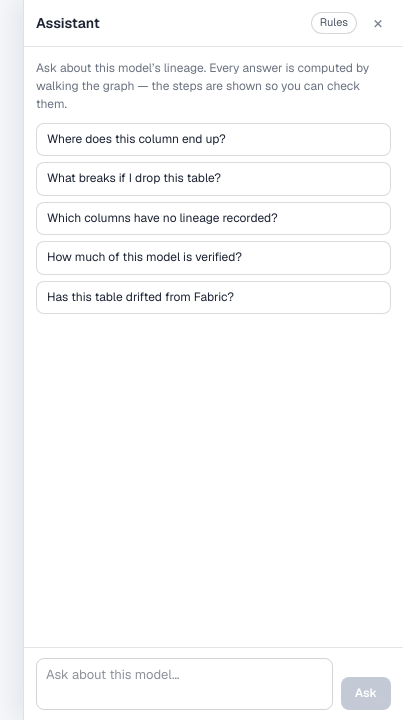
it: AssistantPanel › marks an answer that no traversal backed
The image size is (403, 720).
Type "anything" into the text box labelled "Ask about this model". click: (184, 684)
box: [36, 658, 333, 710]
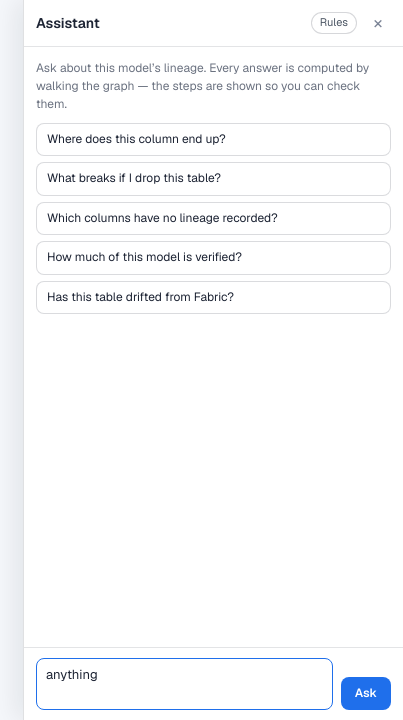
Click the button "Ask". click: click(366, 693)
box: [341, 677, 391, 710]
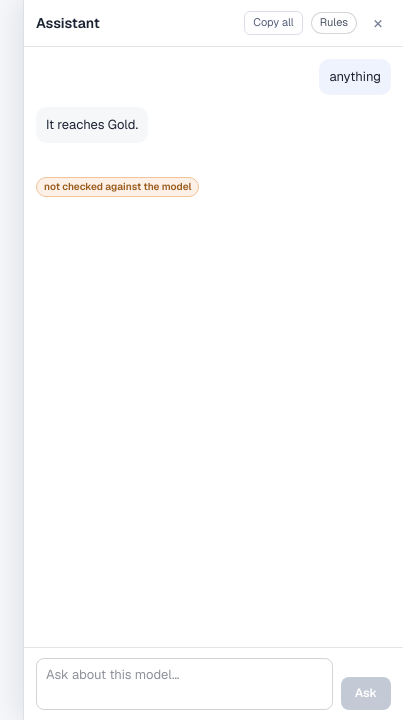
expect the text "not checked against the model" is shown: met, box [36, 177, 200, 197]
